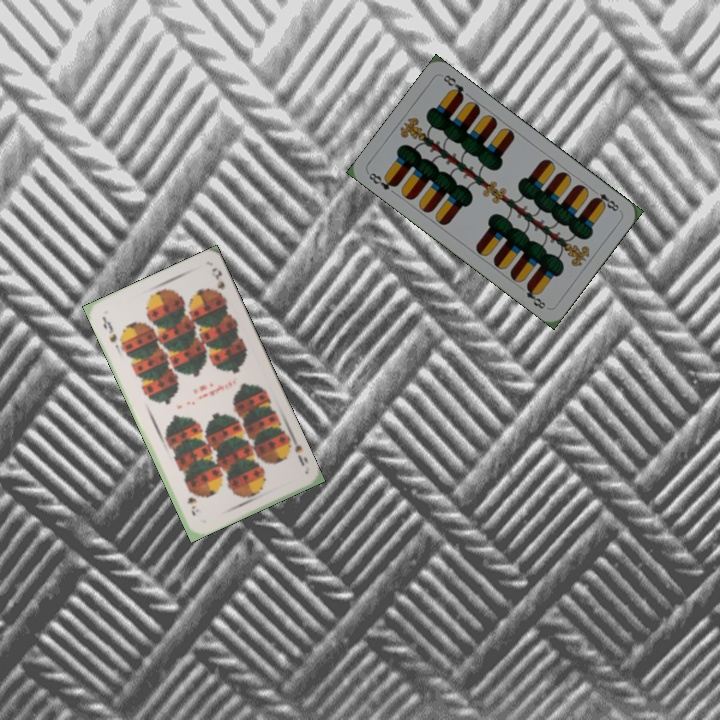E8: (588, 185, 622, 214), (364, 168, 400, 193)
S9: (282, 433, 311, 468), (98, 313, 119, 345)
